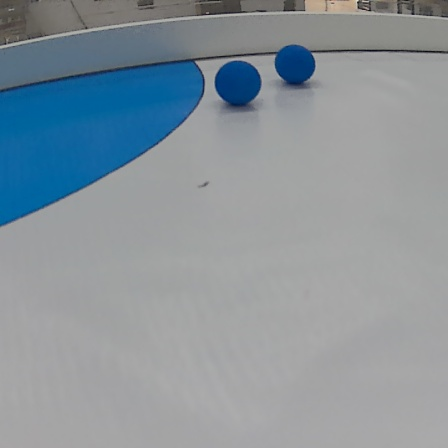blue: (212, 61, 261, 104), (274, 44, 316, 85)
blue_base: (2, 55, 206, 225)
